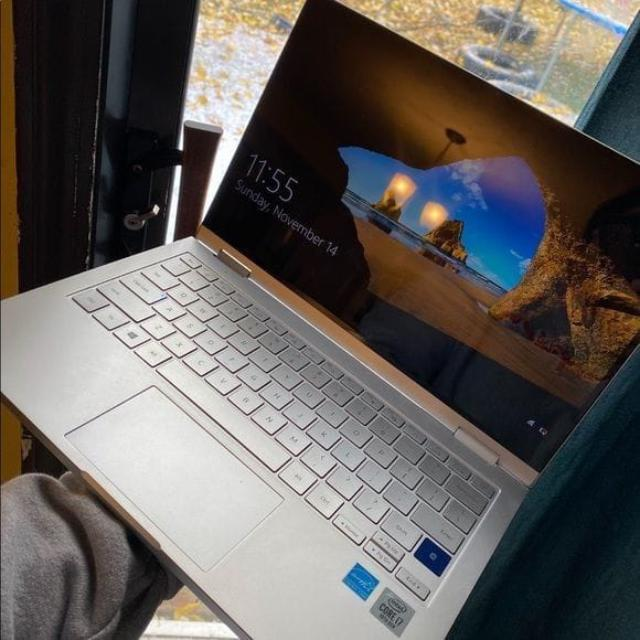laptop: (8, 0, 632, 638)
